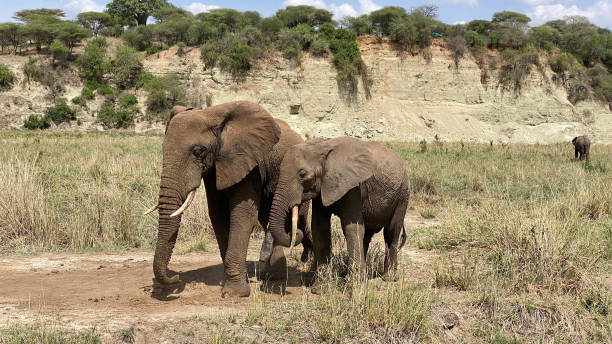africanelephant: (136, 97, 262, 278)
